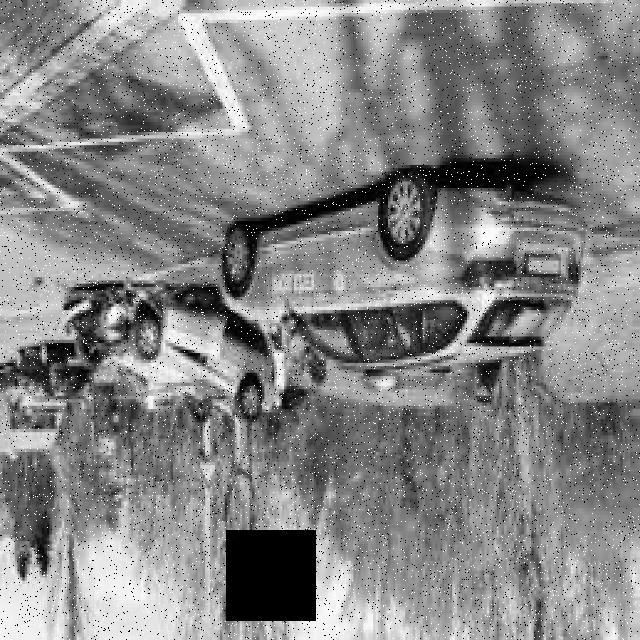severe: (59, 274, 282, 442)
